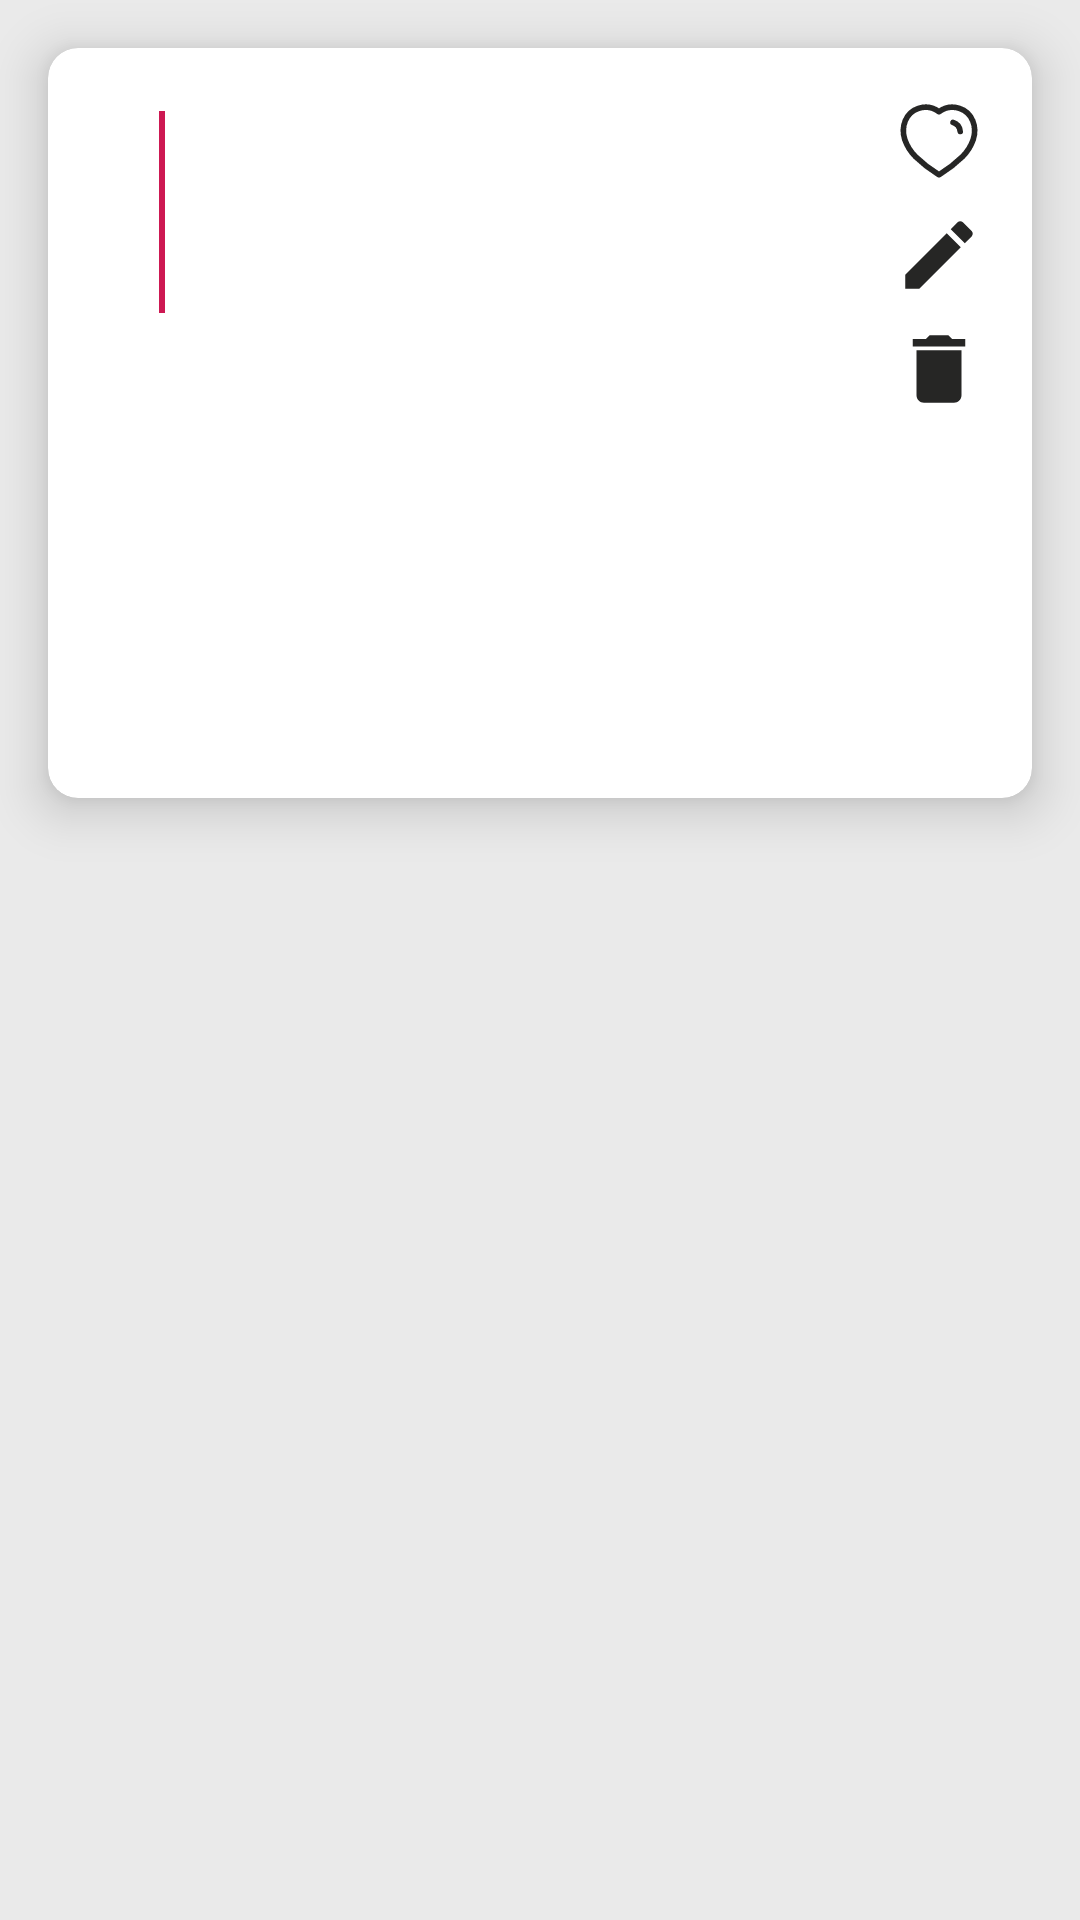

Named icons in this screenshot (1080×1920) and their centers, [x,y]:
delete: [939,369]
edit: [939,255]
heart: [939,141]
